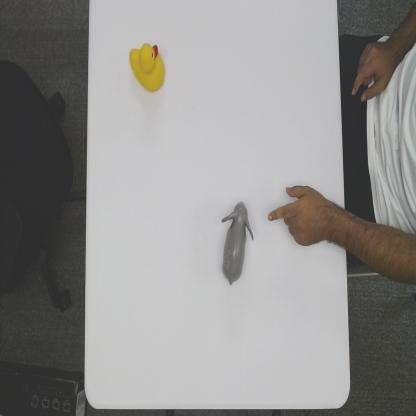Duck: (129, 41, 166, 93)
Elephant: (222, 200, 254, 287)
Hand: (267, 180, 333, 251)
